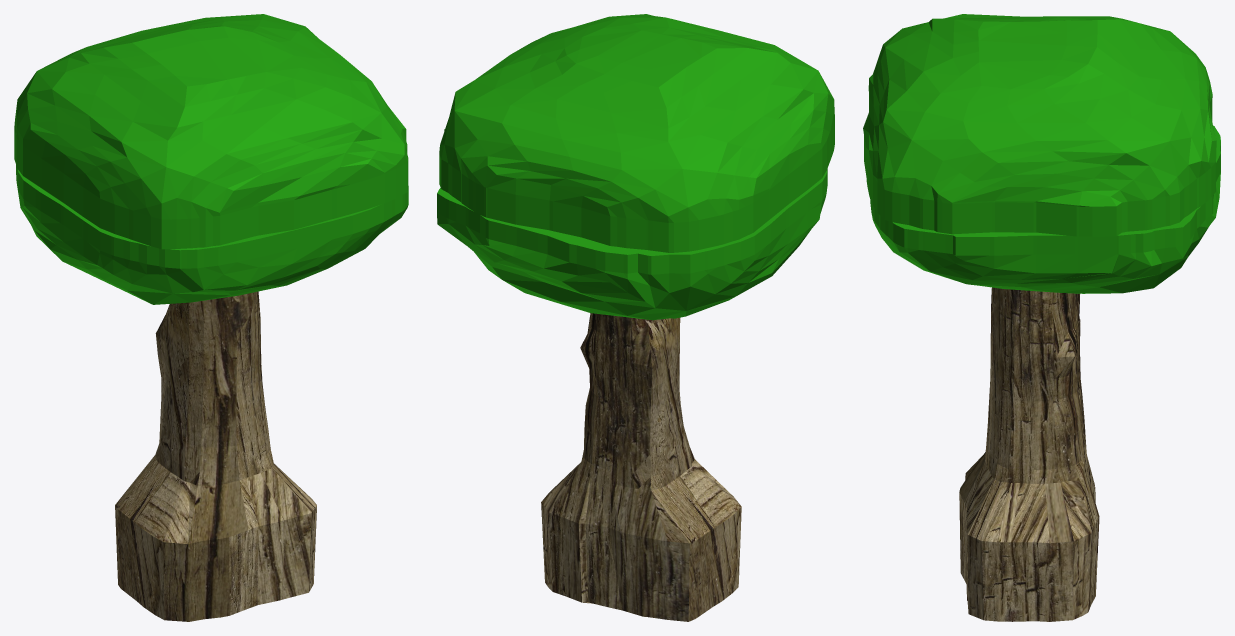
File: arbreSimpleFinal.obj
The picture shows the model from 3 angles, left to right: view 1: azimuth 30°, elevation 25°; view 2: azimuth 150°, elevation 25°; view 3: azimuth 270°, elevation 25°; orthographic projection.
Visible parts, largest first — view 1: Trunk_Cube; view 2: Trunk_Cube; view 3: Trunk_Cube.
Boxes of the visible parts, bbox=[...] form: Trunk_Cube: bbox=[14, 14, 408, 621]; Trunk_Cube: bbox=[437, 14, 834, 621]; Trunk_Cube: bbox=[863, 14, 1220, 621].
Bounding box in the file's own units: 52.42 × 86.81 × 52.32.
